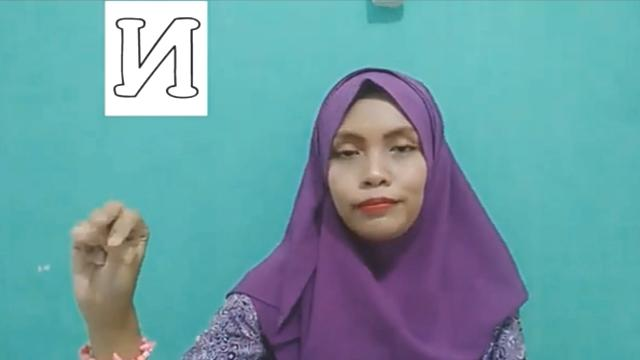N: (70, 198, 156, 306)
